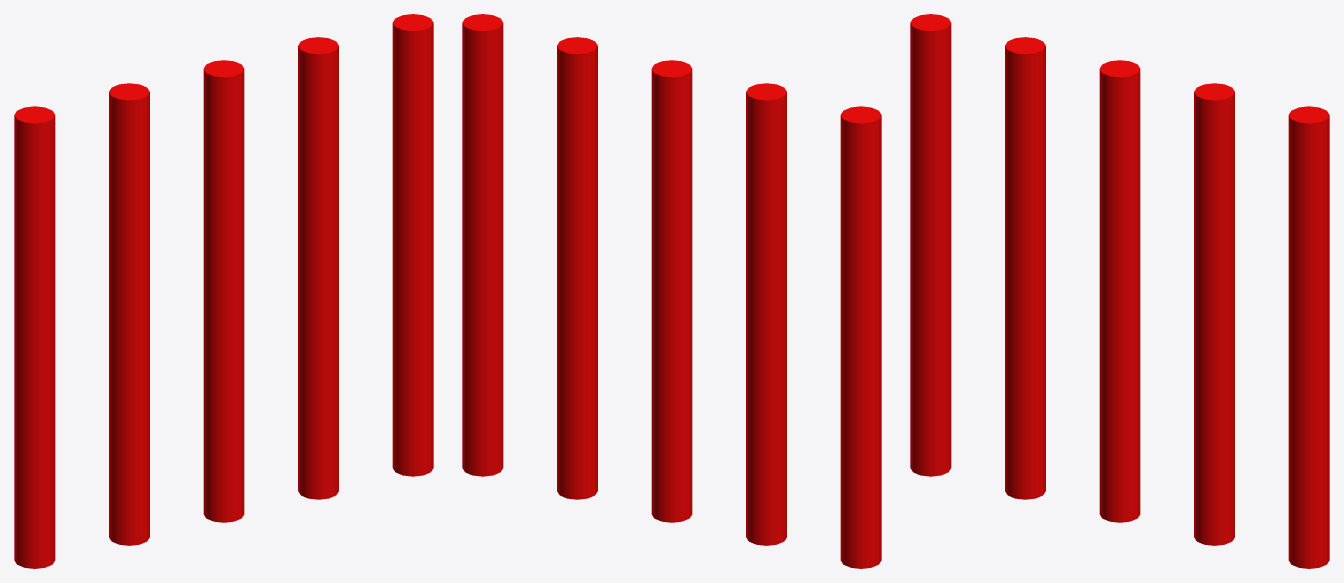
Rendered from lazeractual-1.obj.
The picture shows the model from 3 angles, left to right: view 1: azimuth 30°, elevation 25°; view 2: azimuth 150°, elevation 25°; view 3: azimuth 330°, elevation 25°; orthographic projection.
Parts seen in each view (by area): view 1: cylinder02, cylinder10, cylinder06, cylinder04, cylinder08; view 2: cylinder02, cylinder10, cylinder06, cylinder04, cylinder08; view 3: cylinder10, cylinder06, cylinder02, cylinder04, cylinder08.
Part boxes in pixels (x1,y1,x2,y2): cylinder02: (14, 106, 55, 568); cylinder10: (392, 14, 433, 476); cylinder06: (203, 60, 244, 522); cylinder04: (109, 83, 149, 545); cylinder08: (298, 37, 338, 499); cylinder02: (840, 106, 881, 568); cylinder10: (462, 14, 503, 476); cylinder06: (651, 60, 692, 522); cylinder04: (746, 83, 786, 545); cylinder08: (557, 37, 597, 499); cylinder10: (1288, 106, 1329, 568); cylinder06: (1099, 60, 1140, 522); cylinder02: (910, 14, 951, 476); cylinder04: (1005, 37, 1045, 499); cylinder08: (1194, 83, 1234, 545).
Bounding box in the file's own units: 8.75 × 9 × 0.75.
